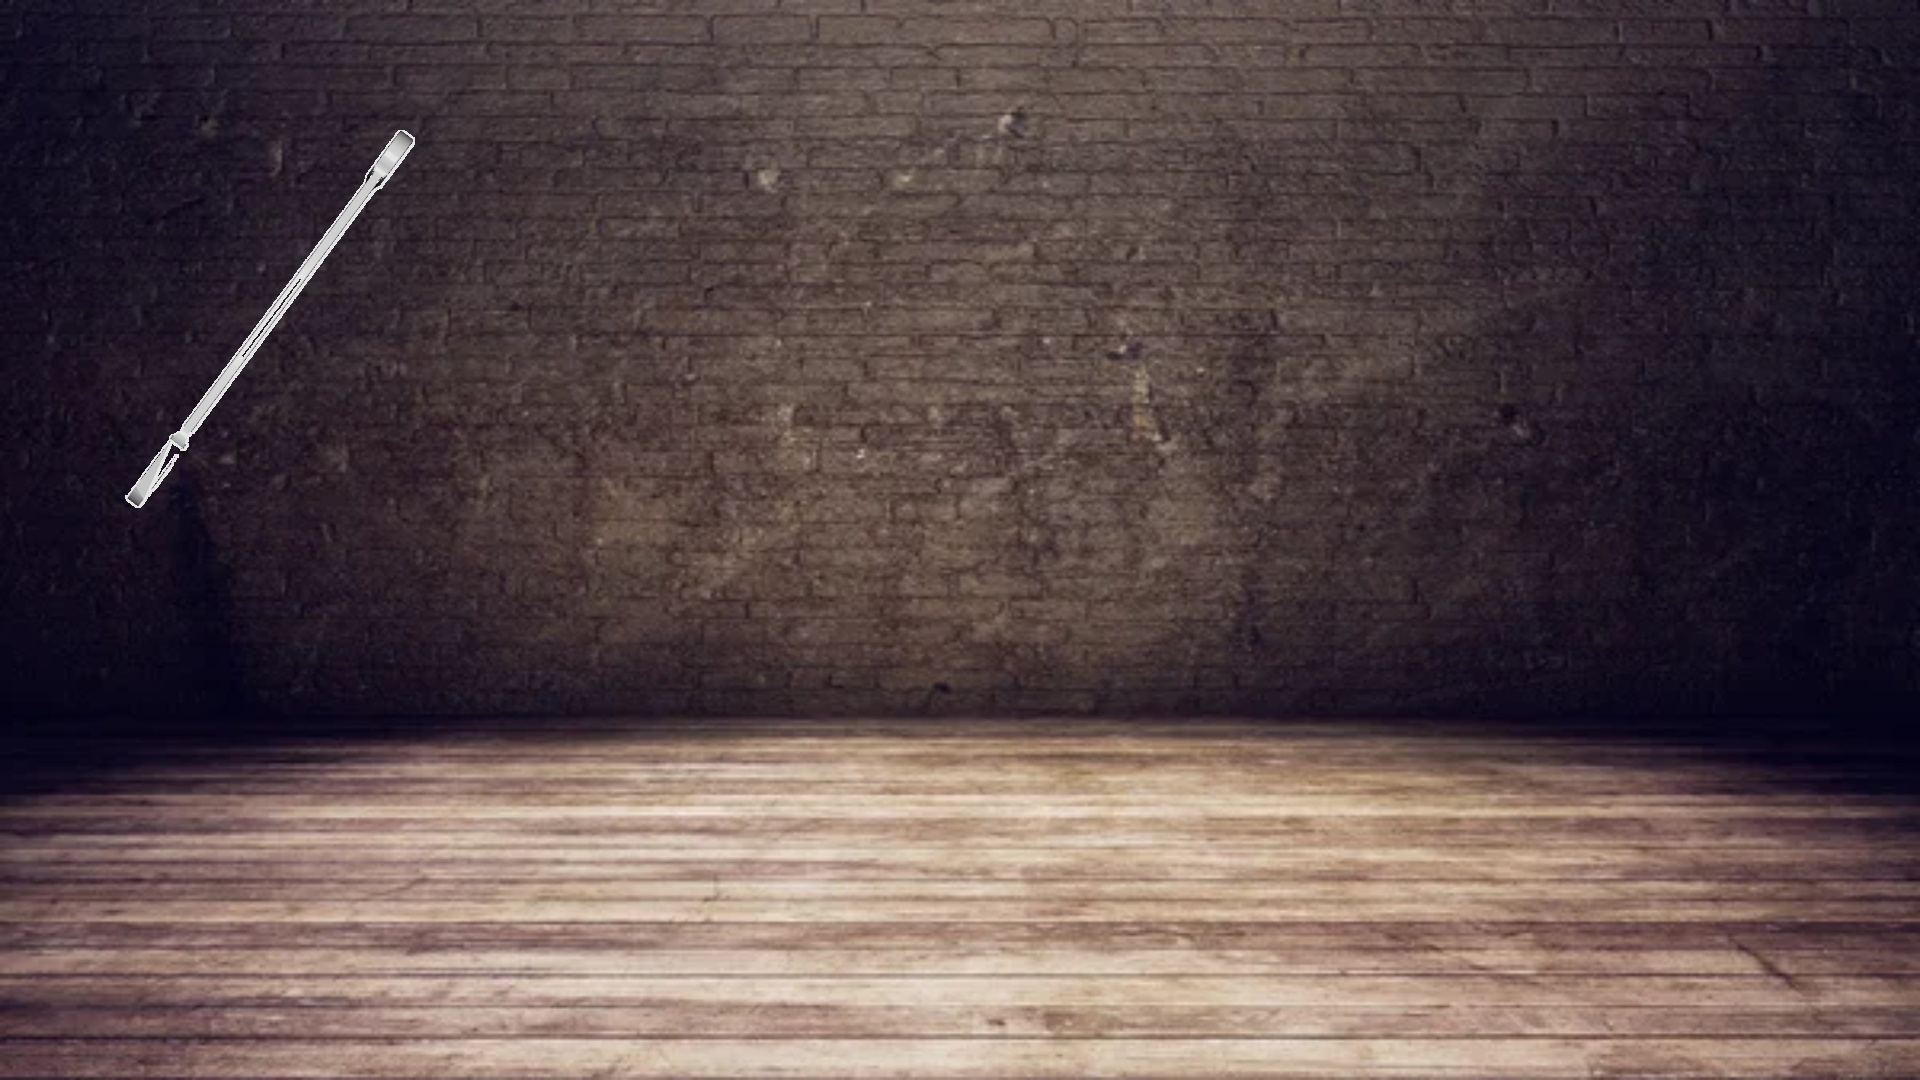Mixed Key: (125, 131, 414, 506)
